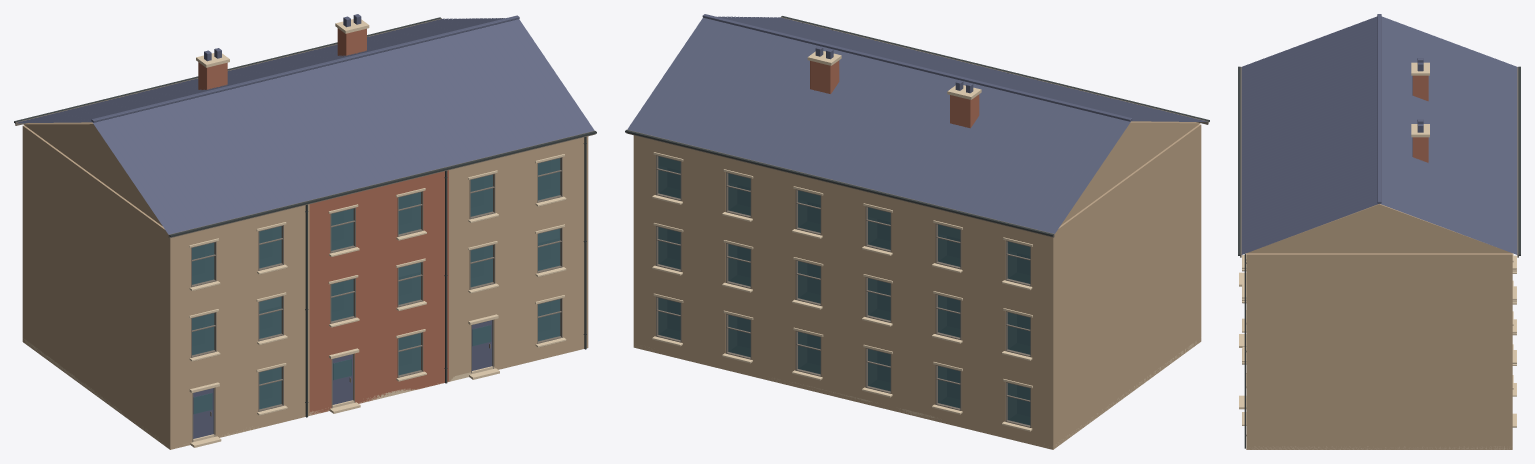
The model's file is attached-townhouse.glb.
The picture shows the model from 3 angles, left to right: view 1: azimuth 30°, elevation 25°; view 2: azimuth 150°, elevation 25°; view 3: azimuth 270°, elevation 25°; orthographic projection. The views are drawn at different scales.
Visible parts, largest first — view 1: attached-townhouse; view 2: attached-townhouse; view 3: attached-townhouse.
Boxes of the visible parts, x1,y1,x2,y2 form: attached-townhouse: [14, 14, 596, 449]; attached-townhouse: [625, 14, 1209, 449]; attached-townhouse: [1238, 14, 1520, 449].
Bounding box in the file's own units: 18.35 × 12.12 × 11.69.
